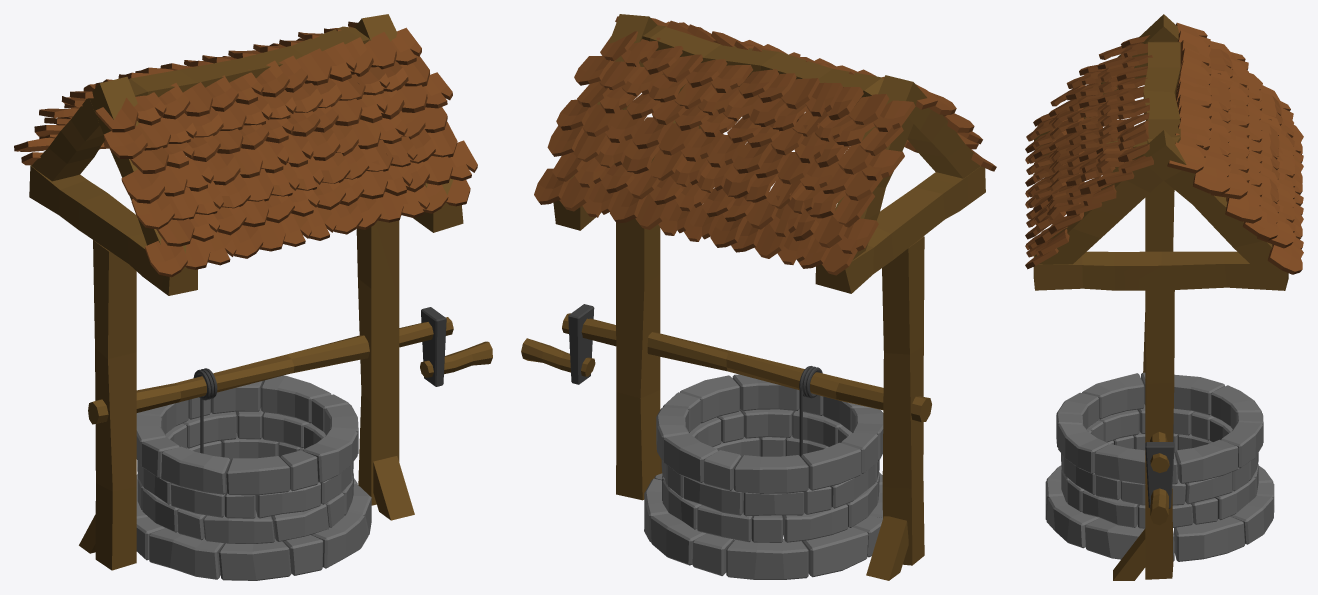
Rendered from sumur.fbx.
3 renders of one model, left to right at view 1: azimuth 30°, elevation 25°; view 2: azimuth 150°, elevation 25°; view 3: azimuth 270°, elevation 25°, orthographic. The views are drawn at different scales.
Parts seen in each view (by area): view 1: sumur; view 2: sumur; view 3: sumur.
Boxes of the visible parts, x1,y1,x2,y2 form: sumur: (14,14,492,580); sumur: (521,14,996,580); sumur: (1025,14,1303,580).
Size of the model in its own units: 2922 by 3319 by 1907.
